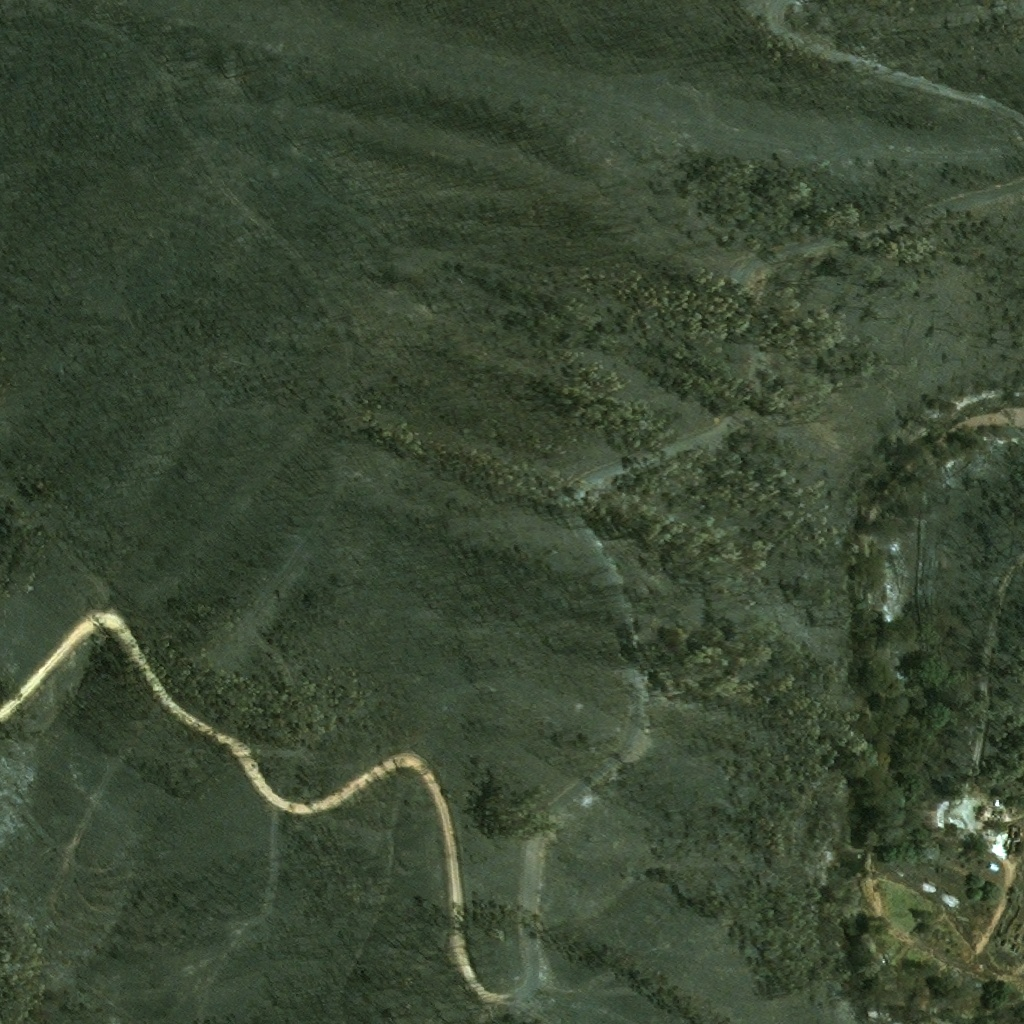0 no-damage: (987, 861, 998, 873)
3 destroyed: (979, 803, 1010, 820), (1014, 838, 1023, 855)
